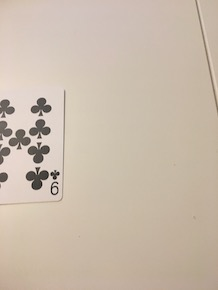NineOfClubs: (1, 90, 81, 206)
